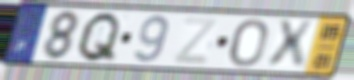8: (42, 9, 81, 62)
9: (132, 13, 172, 66)
O: (228, 17, 270, 69)
Q: (74, 10, 124, 64)
X: (266, 19, 316, 71)
Z: (171, 16, 221, 67)
